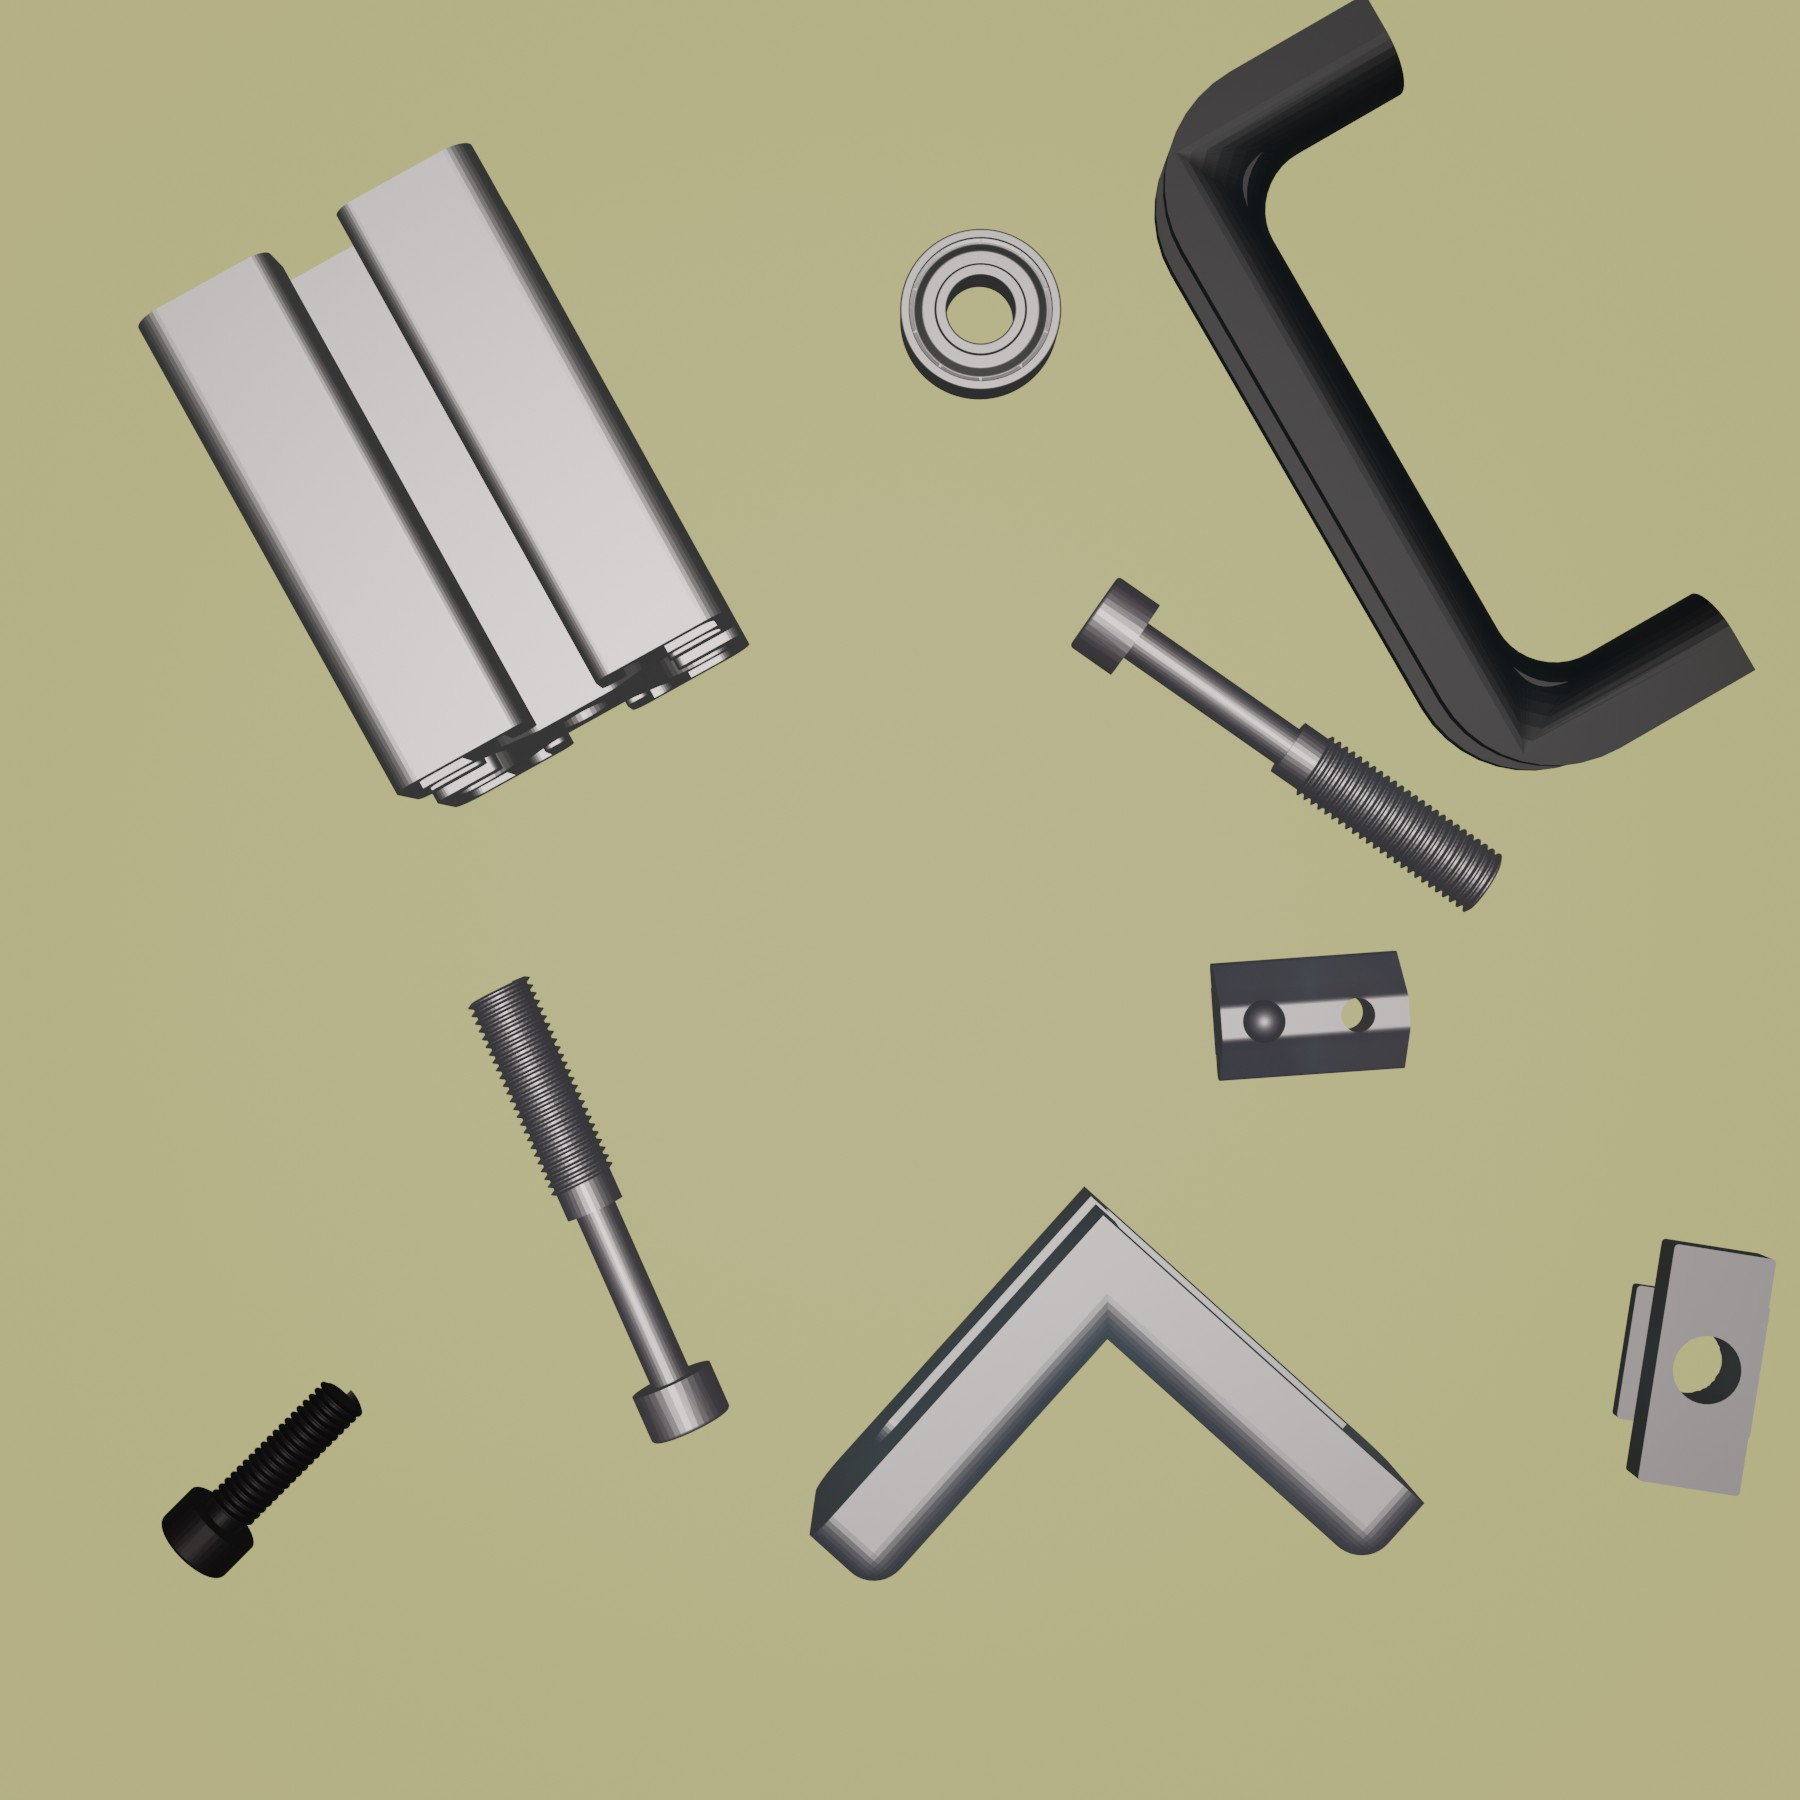Aluminium Extension: (138, 138, 752, 808)
Ball Bearing: (898, 226, 1063, 401)
Multiwinkel: (804, 1184, 1424, 1584)
Pull Handle: (1152, 2, 1759, 773)
Shoulder Socket Head Cap Screw: (1066, 577, 1502, 913), (470, 973, 730, 1447)
Socket Head Cap Screw: (158, 1378, 361, 1581)
T Nut Square: (1610, 1235, 1779, 1500)
T Spring Nut: (1205, 949, 1413, 1085)
